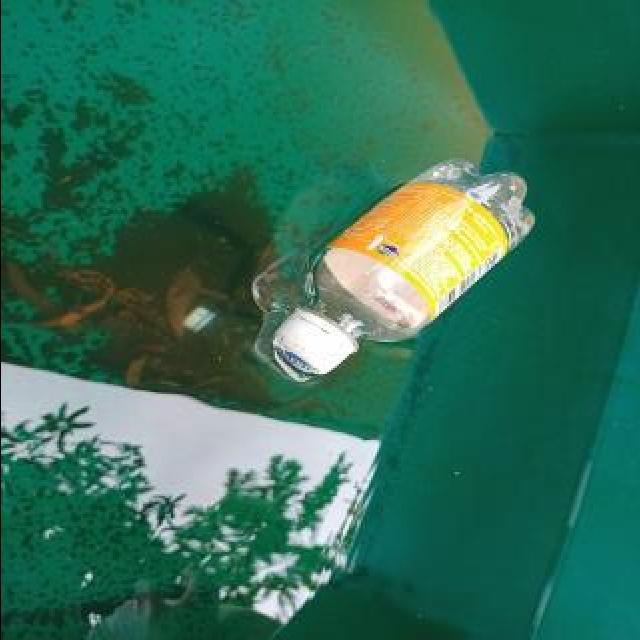Bottle: (267, 145, 546, 389)
